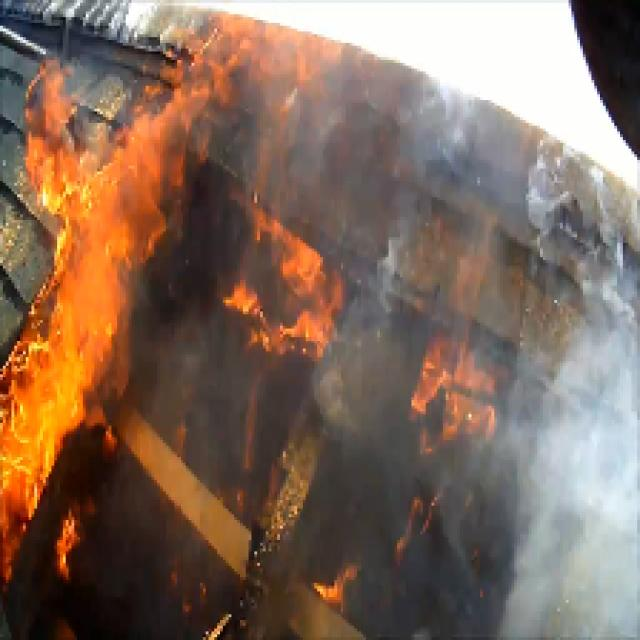fire: (41, 129, 133, 458)
smoke: (545, 388, 625, 640), (394, 8, 547, 122)
